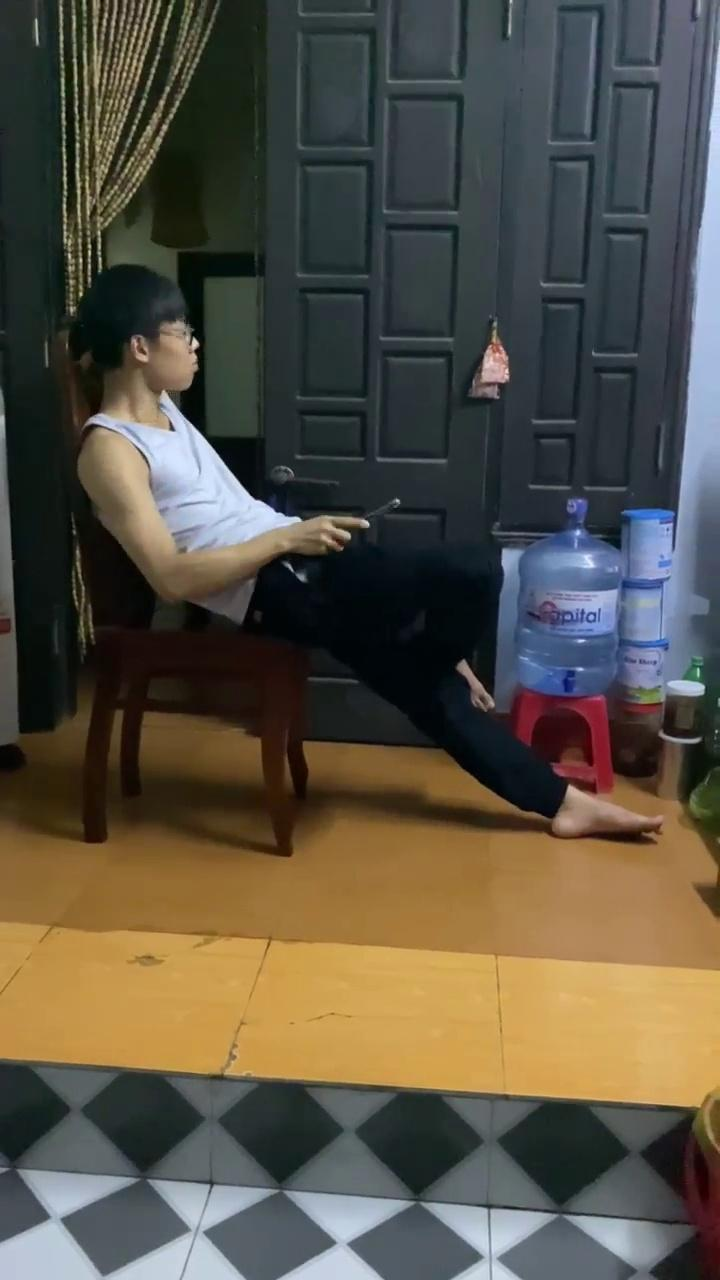BadPosture: (68, 265, 660, 838), (68, 264, 366, 623), (68, 264, 349, 624)
